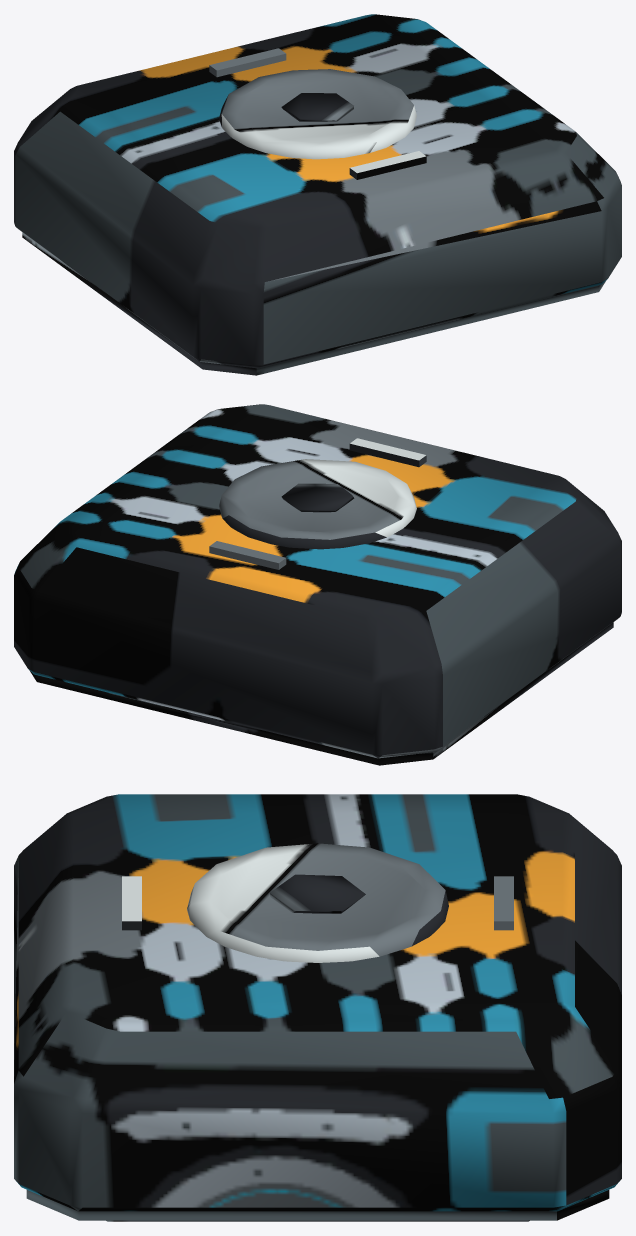
File: S07_Lid_LOD1.obj
3 renders of one model, top to bottom at view 1: azimuth 30°, elevation 25°; view 2: azimuth 150°, elevation 25°; view 3: azimuth 270°, elevation 25°, orthographic. The views are drawn at different scales.
Parts seen in each view (by area): view 1: S07_Lid_LOD1.001; view 2: S07_Lid_LOD1.001; view 3: S07_Lid_LOD1.001.
Boxes of the visible parts, x1=… form: S07_Lid_LOD1.001: x1=14, y1=14, x2=621, y2=375; S07_Lid_LOD1.001: x1=14, y1=404, x2=621, y2=765; S07_Lid_LOD1.001: x1=14, y1=794, x2=621, y2=1221.
Bounding box in the file's own units: 1.13 × 0.4025 × 1.05.
